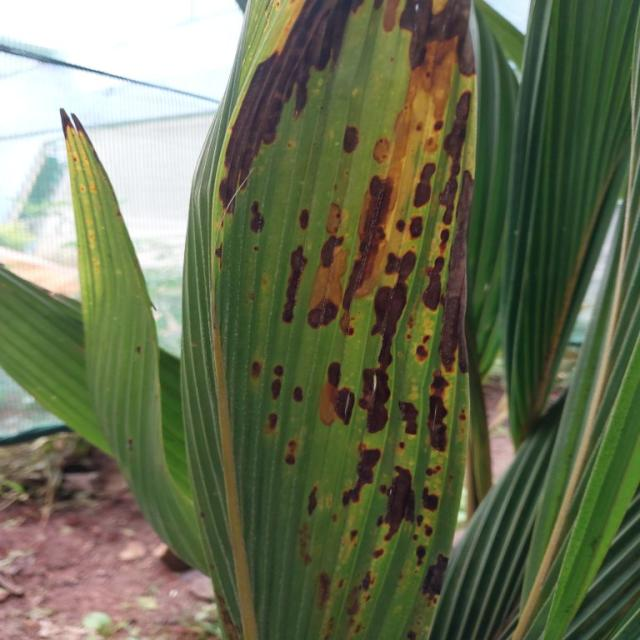gray leaf spot: (181, 1, 488, 640)
